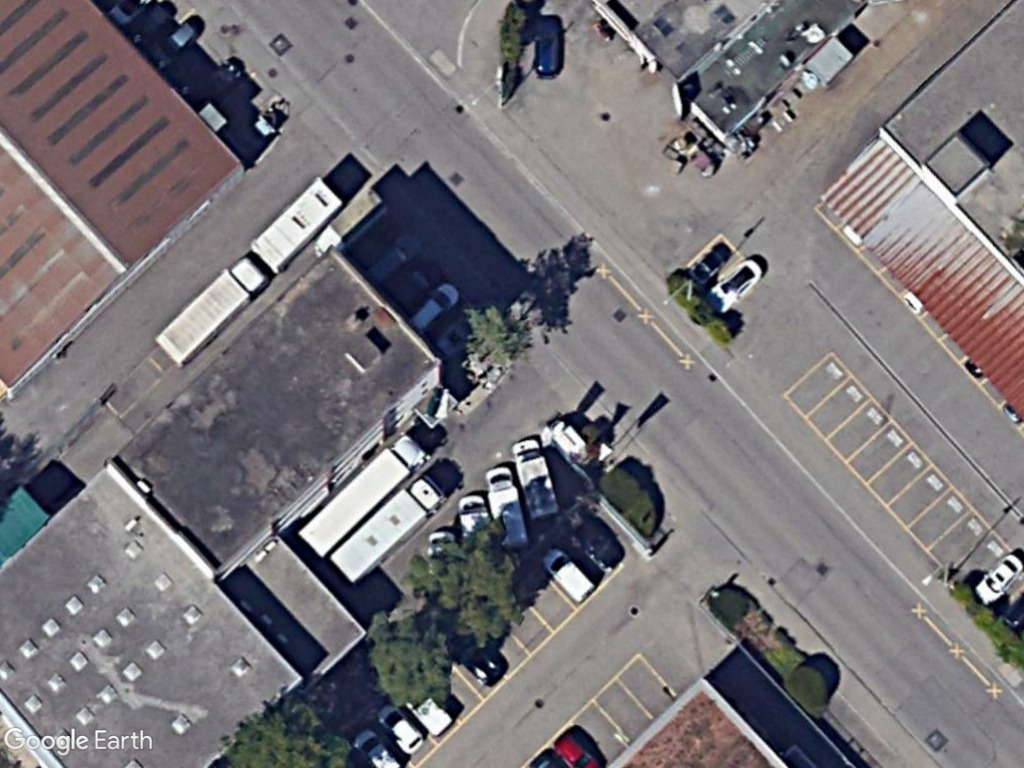car: (404, 279, 465, 336), (372, 699, 425, 757)
truck: (291, 427, 432, 560), (151, 254, 267, 378), (331, 473, 447, 587), (482, 460, 531, 552), (510, 436, 562, 521)
van: (542, 543, 595, 603)
